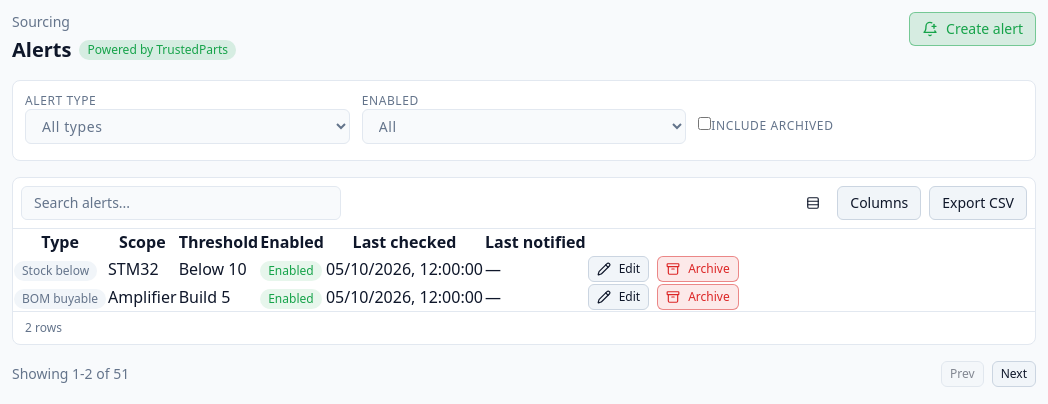
Test: AlertsPage › filter by alert_type narrows visible rows
Expected: the text "STM32" is shown, [107,255,178,283]
Select "BOM buyable" in the dropdown labelled "Alert type" at (187,126), box [25,109,350,144]
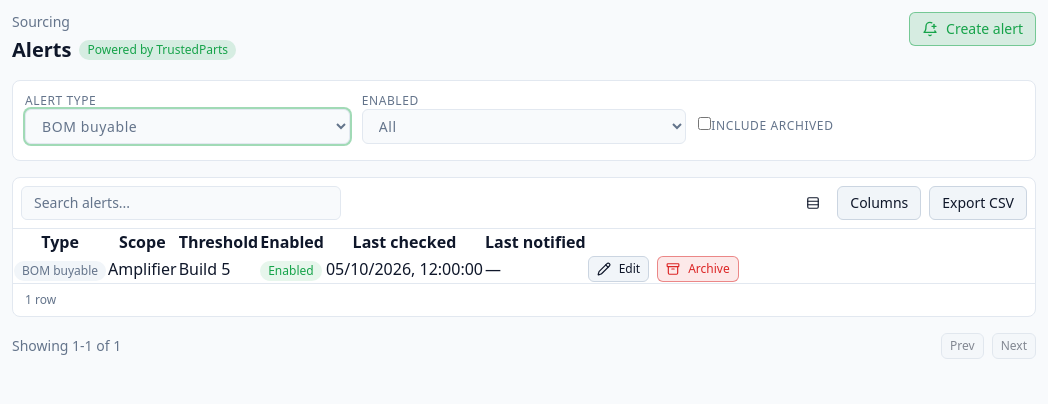
Expected: the text "BOM buyable" is shown, [14,261,106,281]
Expected: the text "Stock below" is gone
